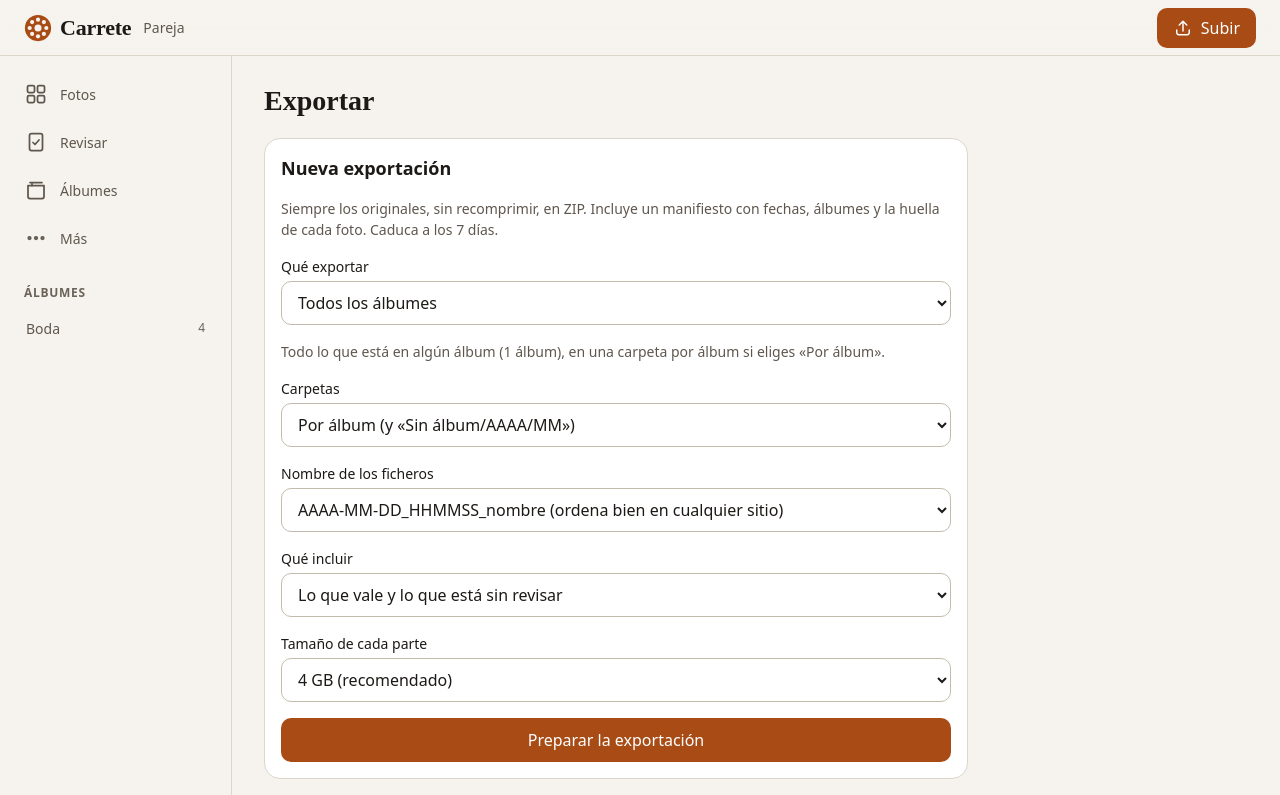
it: exportar › quien no es propietario solo exporta álbumes
Expected: the button "Preparar la exportación" is enabled, [281,718,951,762]
Select "Algunos álbumes" in the dropdown labelled "Qué exportar" at (616, 303), box [281,281,951,325]
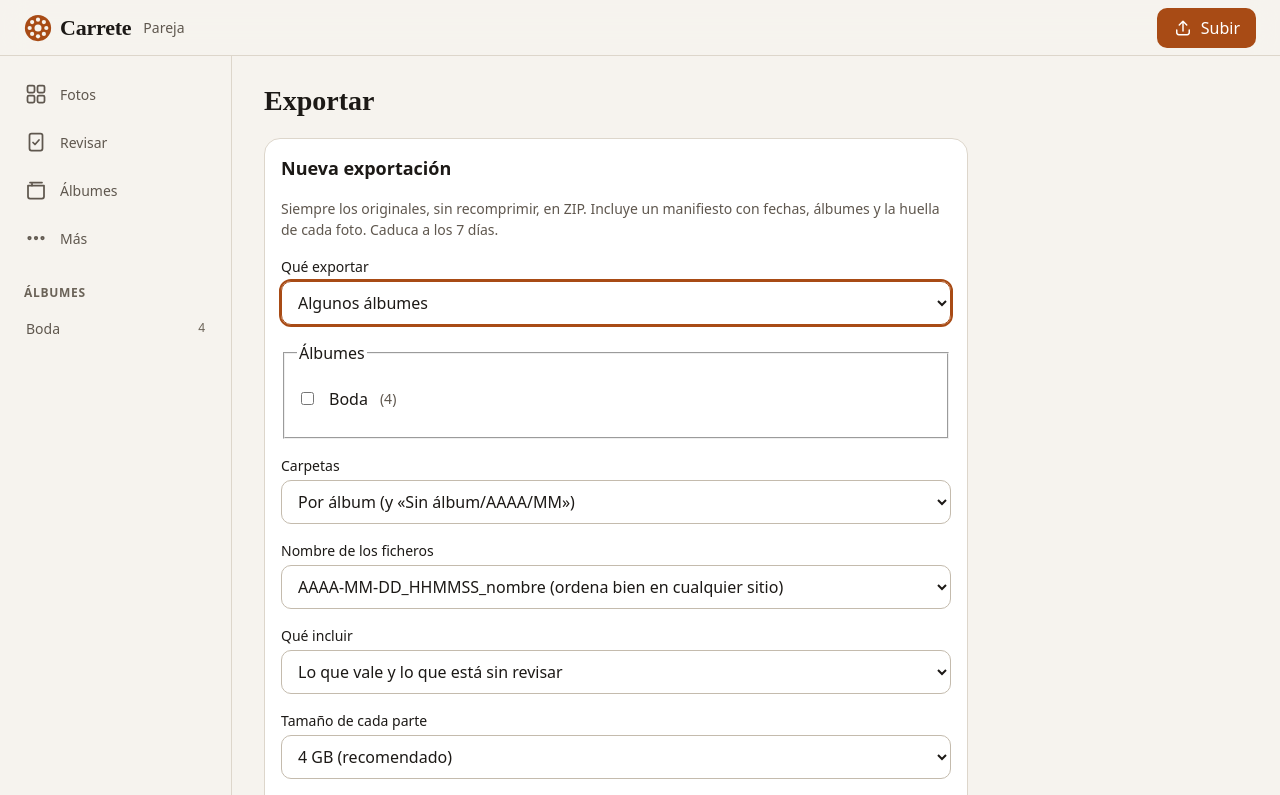
Click the checkbox labelled "Boda (4)".
click(308, 399)  # box [301,392,314,405]
(page scrolled)
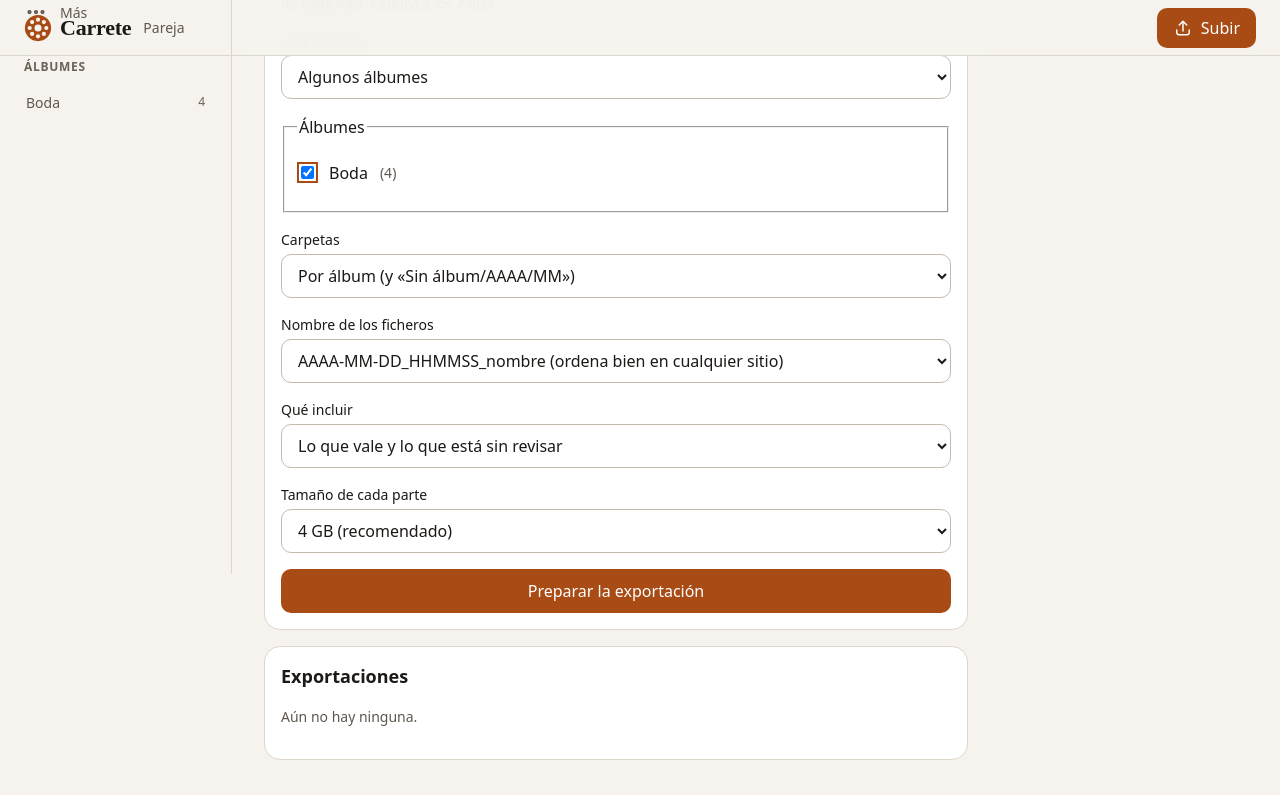
Expected: the button "Preparar la exportación" is enabled, [281,569,951,613]
